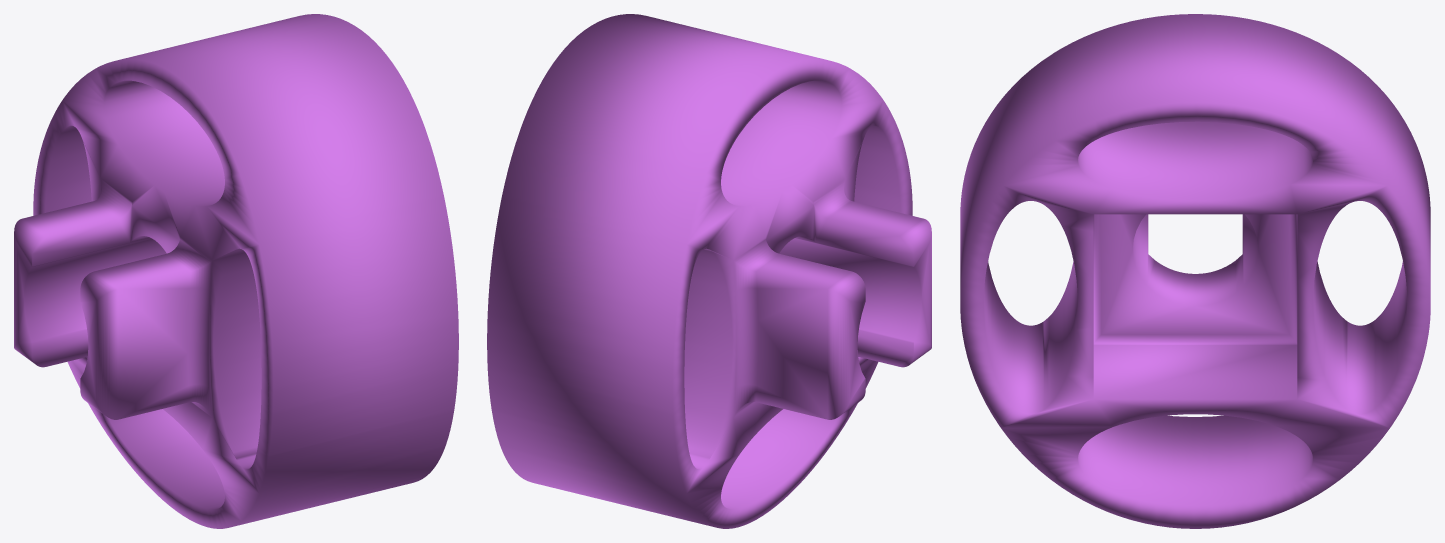
The model's file is continuum_segment_Blender_zero_violet.dae.
3 renders of one model, left to right at view 1: azimuth 30°, elevation 25°; view 2: azimuth 150°, elevation 25°; view 3: azimuth 270°, elevation 25°, orthographic. The views are drawn at different scales.
Parts seen in each view (by area): view 1: continuum_segment; view 2: continuum_segment; view 3: continuum_segment.
Boxes of the visible parts, <box> form: continuum_segment: <box>14,14,458,528</box>; continuum_segment: <box>487,14,931,528</box>; continuum_segment: <box>960,14,1430,528</box>.
Size of the model in its own units: 2.2 by 3 by 3.
